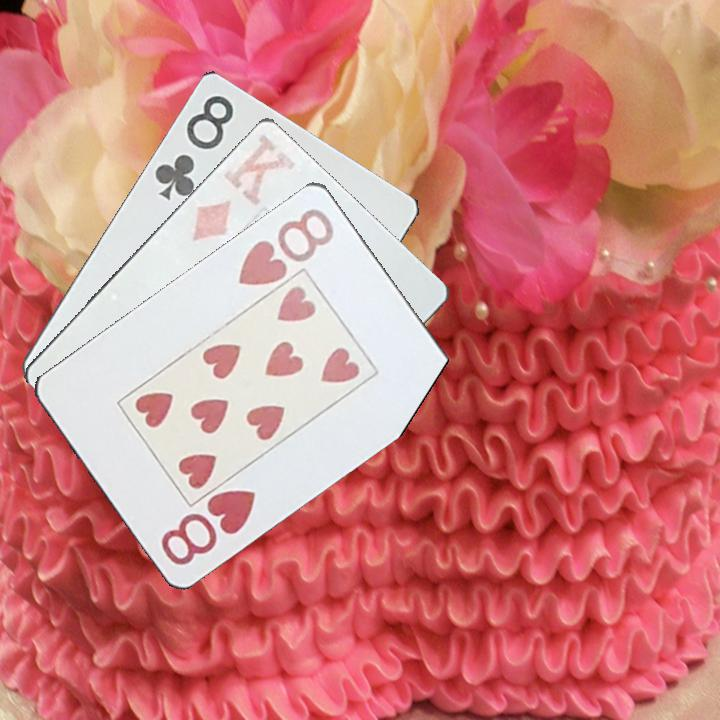8c: (150, 90, 237, 203)
8h: (235, 203, 338, 289), (157, 485, 259, 568)
Kd: (188, 130, 299, 244)
